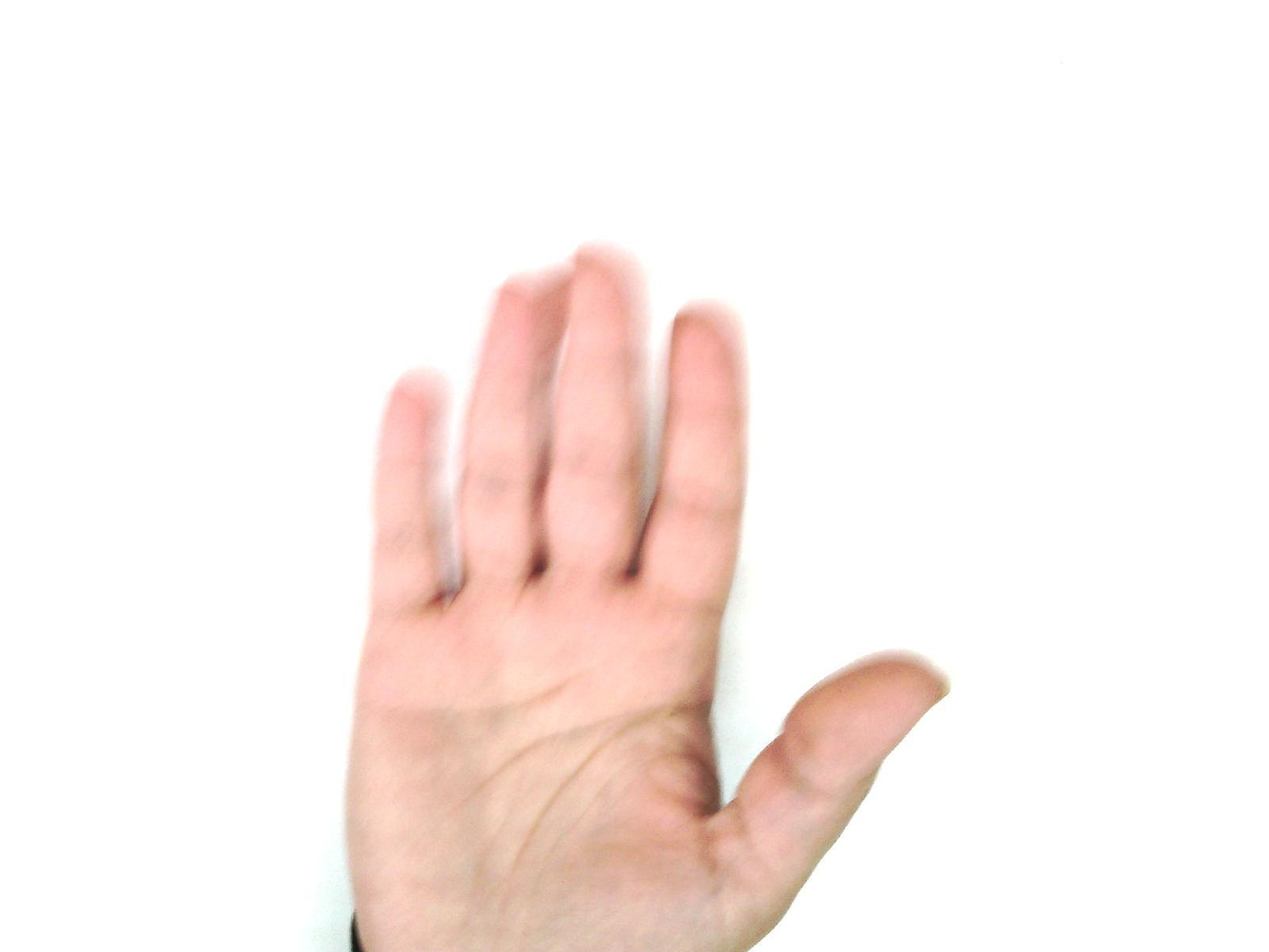open_palm: (339, 242, 953, 951)
